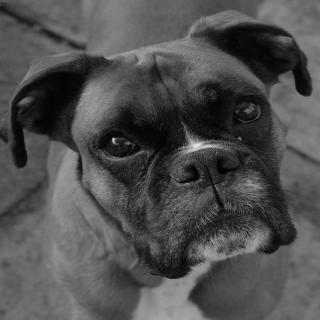dog: (2, 25, 320, 266)
nose: (161, 144, 244, 187)
